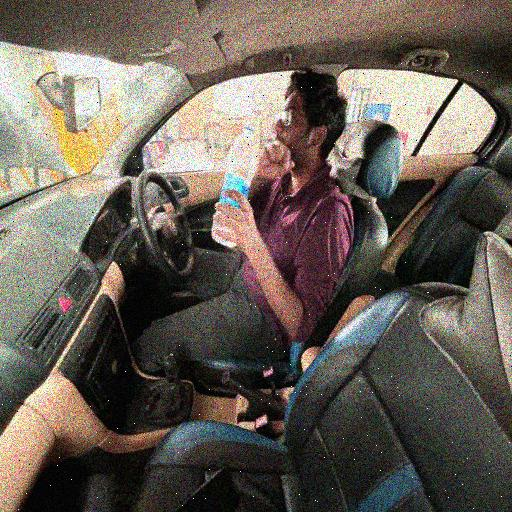Drinking: (194, 68, 357, 351)
